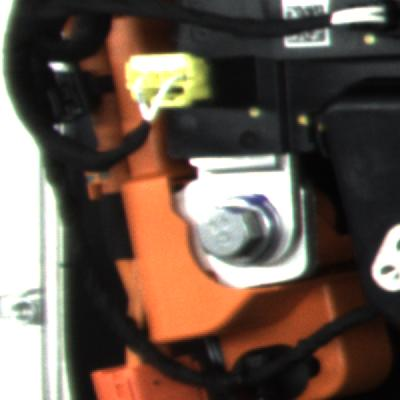nut_b: (188, 187, 288, 276)
